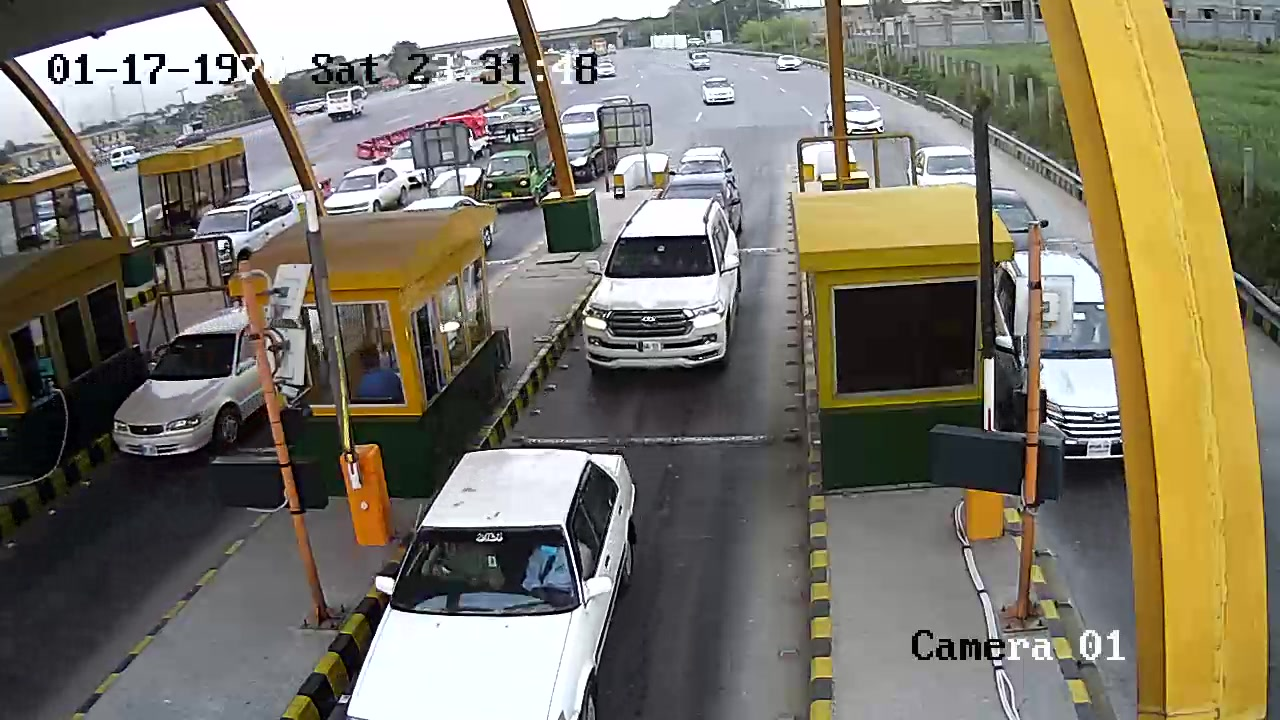F1: (571, 190, 755, 393)
